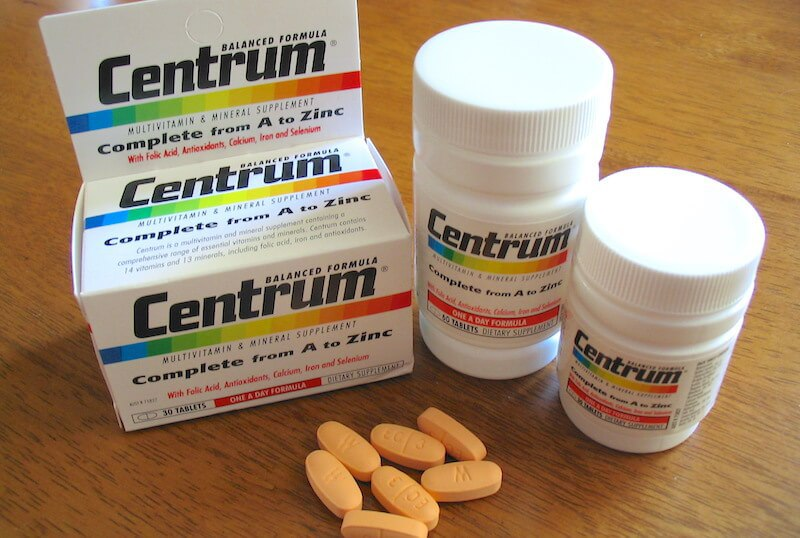Medicine: (56, 0, 419, 437), (410, 13, 614, 429), (554, 169, 767, 469)
